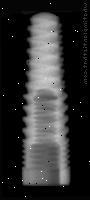Implant Direct: (20, 11, 71, 186)
